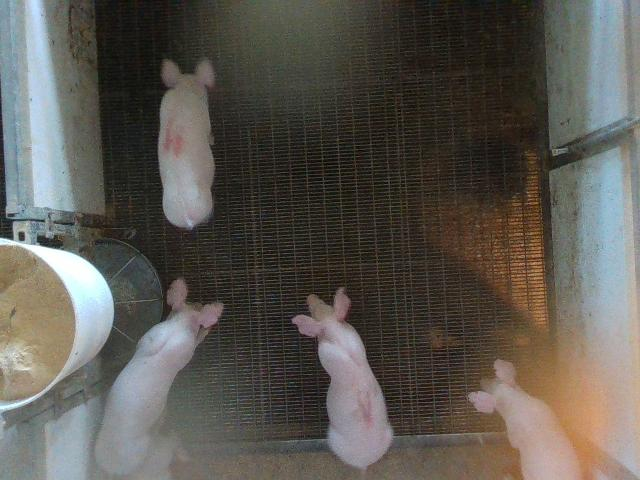pig-1: (292, 288, 392, 469)
pig-4: (158, 59, 215, 228)
